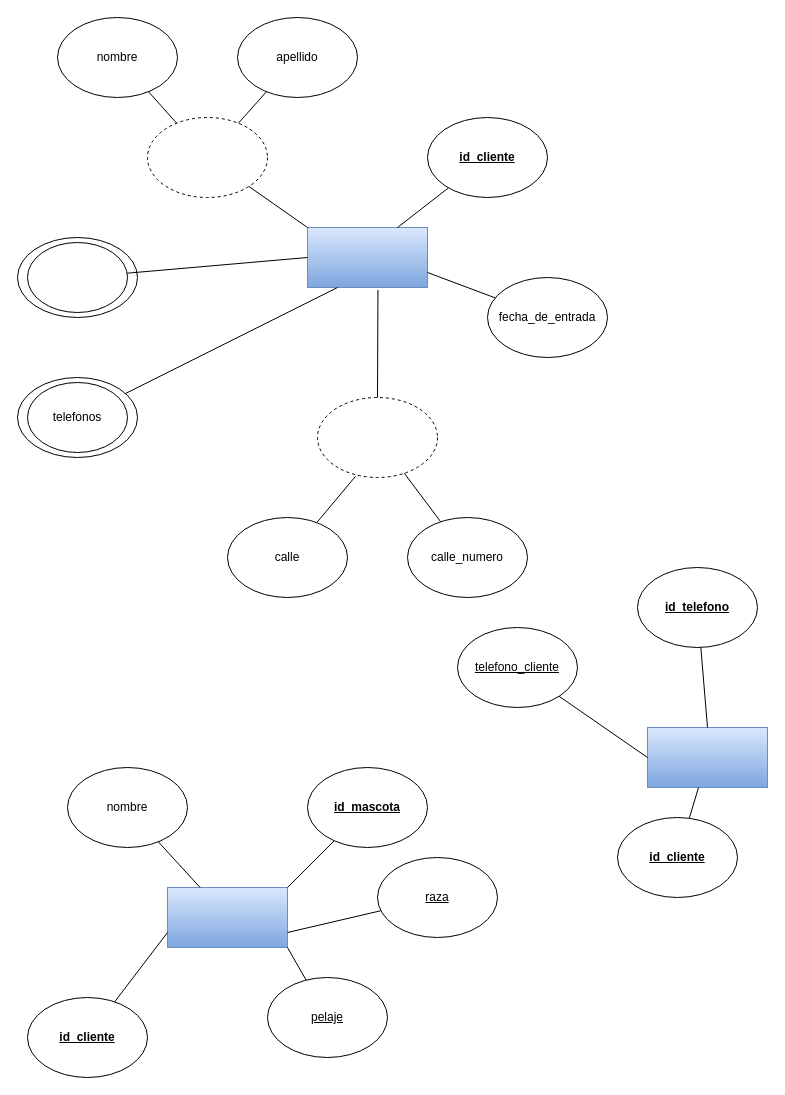
The diagram is 785 pixels wide and 1095 high, and some of its shapes have lost their labels. Each missing label, with the centre of its shape:
"CLIENTE" goes at point 367,257.
"domicilio" goes at point 377,437.
"MASCOSTA" goes at point 227,917.
"mascotas" goes at point 77,277.
"nombre y apellido" goes at point 207,157.
"TELEFONO" goes at point 707,757.
